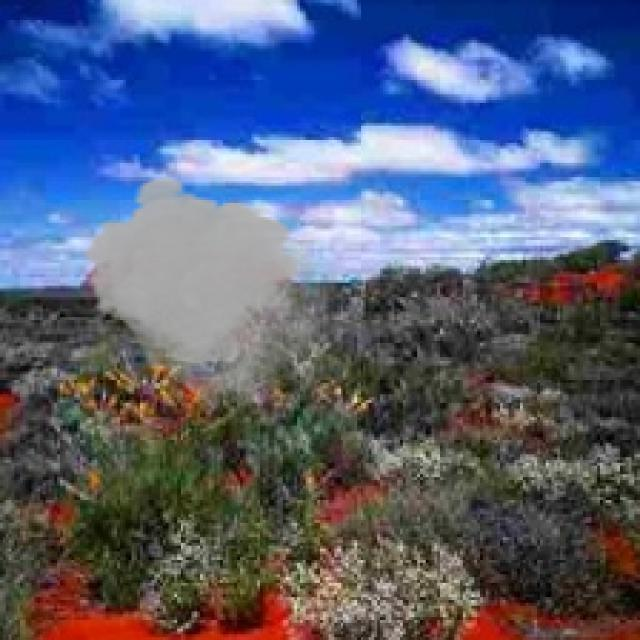smoke: (80, 174, 320, 414)
